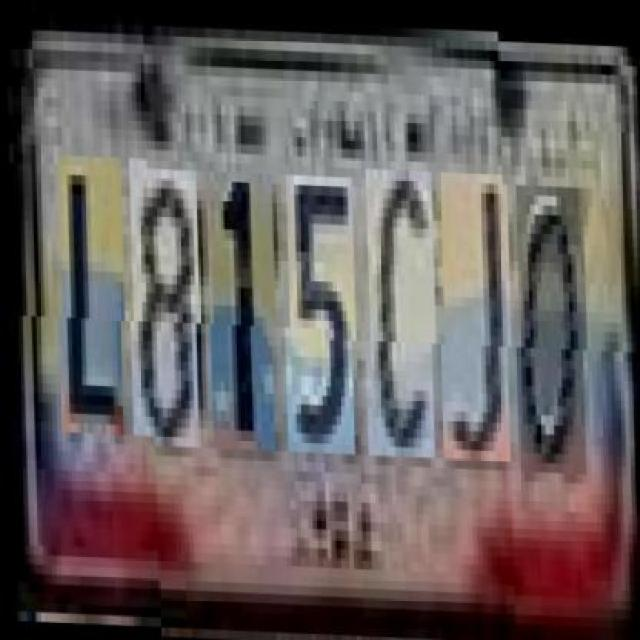1: (209, 169, 276, 449)
5: (284, 172, 358, 452)
8: (128, 166, 202, 446)
c: (365, 164, 437, 453)
j: (439, 168, 513, 457)
l: (58, 164, 125, 444)
o: (514, 171, 588, 460)
